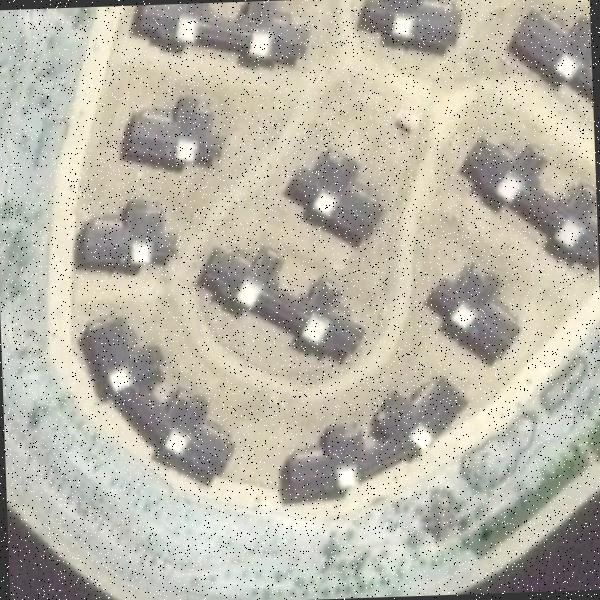Buildings: (282, 382, 472, 502), (462, 120, 594, 266), (78, 336, 219, 471), (206, 249, 370, 359), (142, 0, 304, 66), (293, 151, 378, 246), (431, 274, 514, 362), (115, 102, 219, 168), (521, 0, 592, 93), (77, 207, 173, 275), (362, 0, 462, 56)
